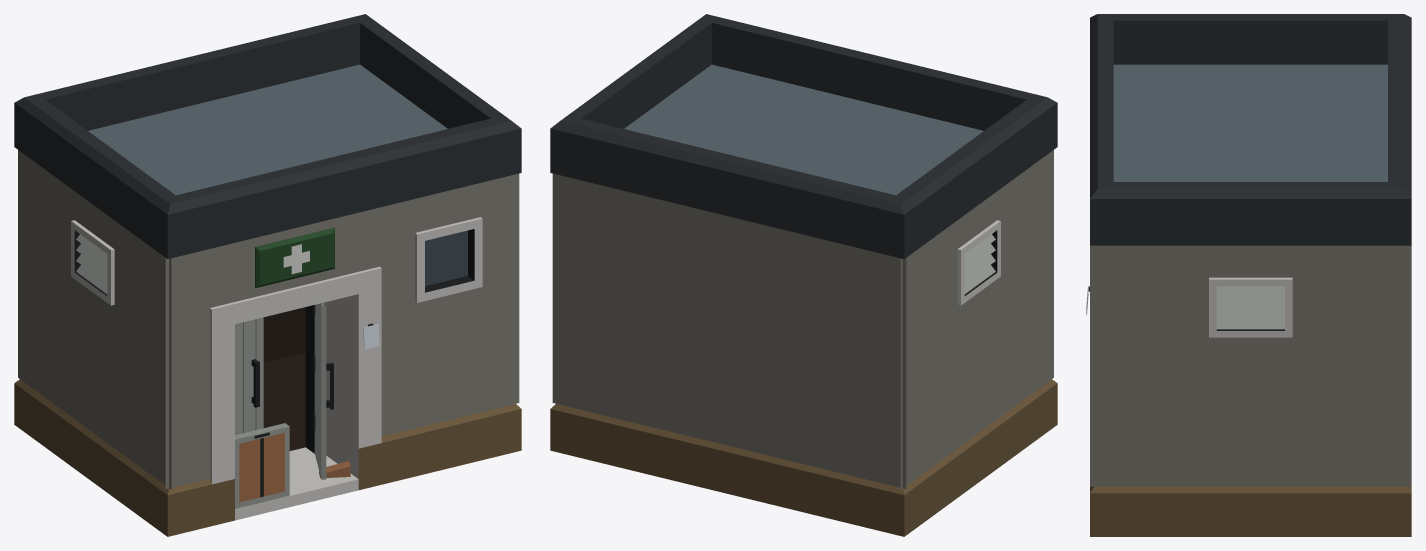
The model's file is first-aid-room-module-56b78b.glb.
3 views of the same model, side by side, from view 1: azimuth 30°, elevation 25°; view 2: azimuth 150°, elevation 25°; view 3: azimuth 270°, elevation 25° (orthographic). The views are drawn at different scales.
Parts seen in each view (by area): view 1: annexe-shell, ramp-board-mesh, door-l-mesh, door-r-mesh; view 2: annexe-shell; view 3: annexe-shell.
Boxes of the visible parts, x1,y1,x2,y2 form: annexe-shell: [14, 14, 521, 536]; ramp-board-mesh: [235, 423, 289, 508]; door-l-mesh: [235, 317, 263, 435]; door-r-mesh: [313, 302, 333, 479]; annexe-shell: [550, 14, 1057, 536]; annexe-shell: [1088, 14, 1411, 536].
Bounding box in the file's own units: 4 × 3.55 × 3.03.
